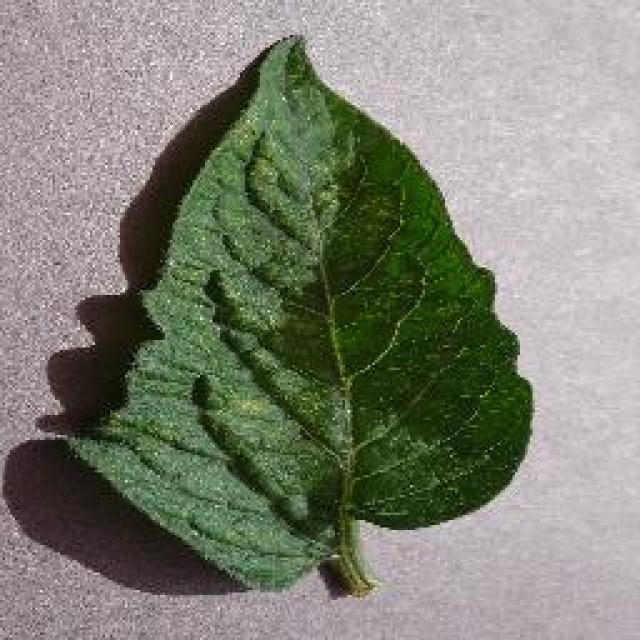Tomato mosaic virus leaf: (68, 32, 538, 600)
